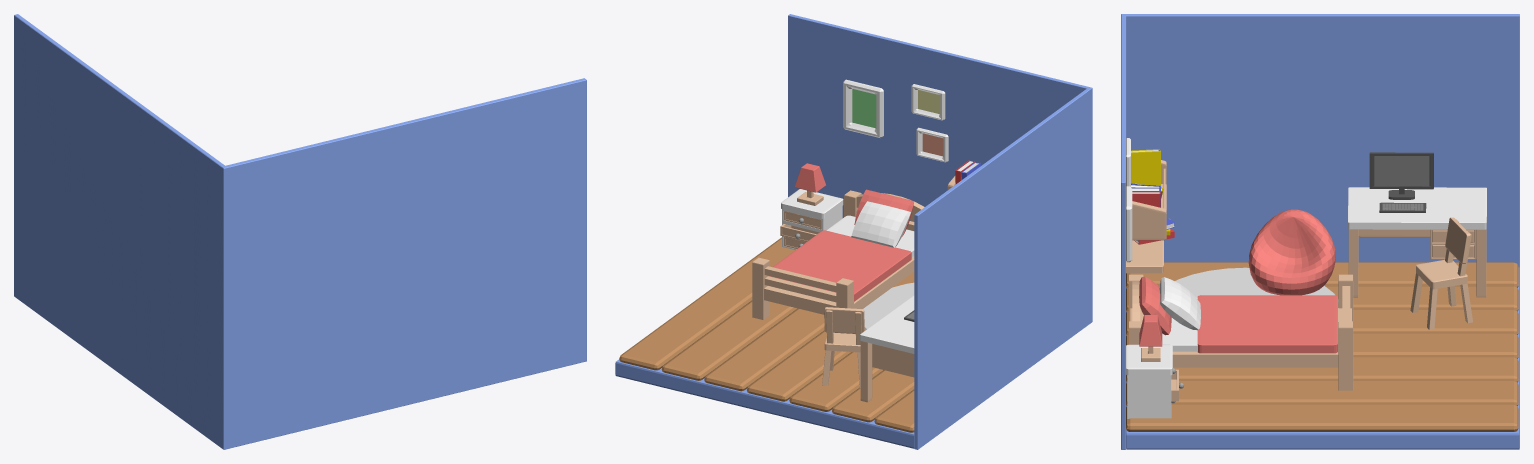
Rendered from sceneV3.glb.
3 views of the same model, side by side, from view 1: azimuth 30°, elevation 25°; view 2: azimuth 150°, elevation 25°; view 3: azimuth 270°, elevation 25° (orthographic). The views are drawn at different scales.
Parts seen in each view (by area): view 1: Wall; view 2: Wall, Wood floor 1, Bed 1, Floor, Table 1, Bedside table 1, Chair 1, Picture 1.001, Carpet 1, Picture 2.001, Picture 3.001, Lamp 1; view 3: Wall, Wood floor 1, Bed 1, Table 1, Floor, Seat 1, Bedside table 1, Chair 1, PC, Carpet 1, Wall bookshelf.001, Wall shelf.001 (+5 smaller).
Boxes of the visible parts, x1,y1,x2,y2 form: Wall: [14, 14, 586, 449]; Wall: [788, 14, 1092, 449]; Wood floor 1: [619, 237, 914, 432]; Bed 1: [752, 189, 924, 319]; Floor: [615, 359, 914, 448]; Table 1: [860, 295, 914, 402]; Bedside table 1: [780, 189, 843, 249]; Chair 1: [822, 307, 864, 388]; Picture 1.001: [843, 79, 883, 138]; Carpet 1: [863, 282, 914, 330]; Picture 2.001: [911, 84, 945, 120]; Picture 3.001: [916, 127, 948, 162]; Lamp 1: [794, 163, 825, 205]; Wall: [1121, 14, 1519, 449]; Wood floor 1: [1126, 262, 1518, 431]; Bed 1: [1129, 274, 1353, 390]; Table 1: [1348, 187, 1486, 297]; Floor: [1126, 267, 1519, 449]; Seat 1: [1248, 209, 1335, 295]; Bedside table 1: [1126, 344, 1183, 418]; Chair 1: [1410, 217, 1472, 330]; PC: [1369, 152, 1433, 199]; Carpet 1: [1175, 267, 1338, 302]; Wall bookshelf.001: [1132, 160, 1166, 240]; Wall shelf.001: [1126, 240, 1163, 273].
Bounding box in the file's own units: 8.1 × 6 × 8.1.
